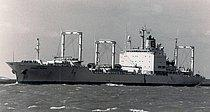Ship: (5, 17, 208, 92)
